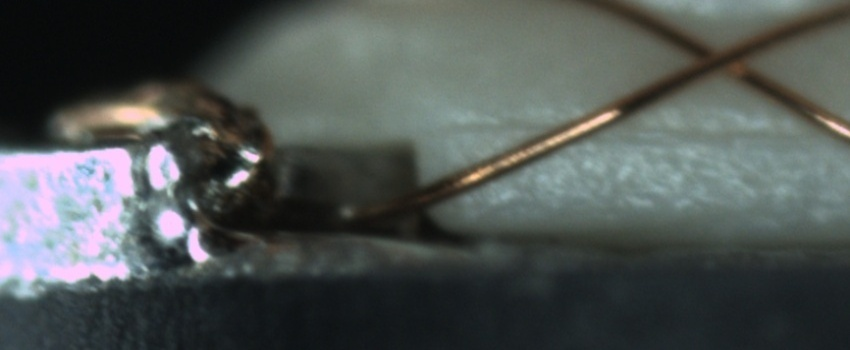CL: (667, 24, 764, 89)
DL: (447, 99, 849, 158)
TE: (36, 63, 186, 145)
